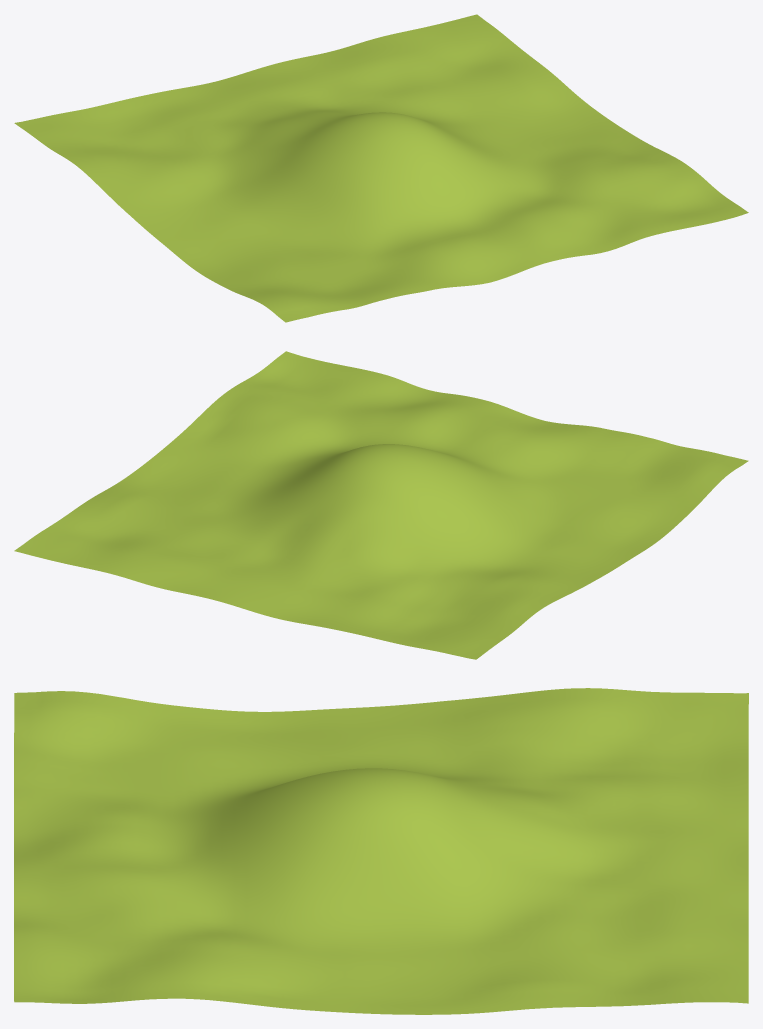
The model's file is bosse_pos3.fbx.
3 renders of one model, top to bottom at view 1: azimuth 30°, elevation 25°; view 2: azimuth 150°, elevation 25°; view 3: azimuth 270°, elevation 25°, orthographic. The views are drawn at different scales.
Visible parts, largest first — view 1: bosse_pos3; view 2: bosse_pos3; view 3: bosse_pos3.
Boxes of the visible parts, box(x1,y1,x2,y2) form: bosse_pos3: box(14, 14, 748, 322); bosse_pos3: box(14, 351, 748, 659); bosse_pos3: box(14, 688, 748, 1014).
Size of the model in its own units: 708 by 88.45 by 721.
